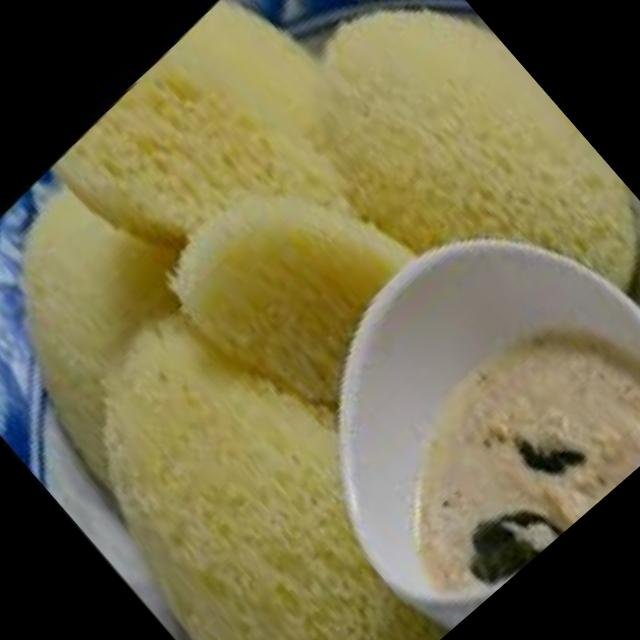idli: (8, 252, 501, 640), (251, 0, 640, 395), (36, 0, 421, 360), (142, 125, 454, 438), (0, 144, 273, 490)
